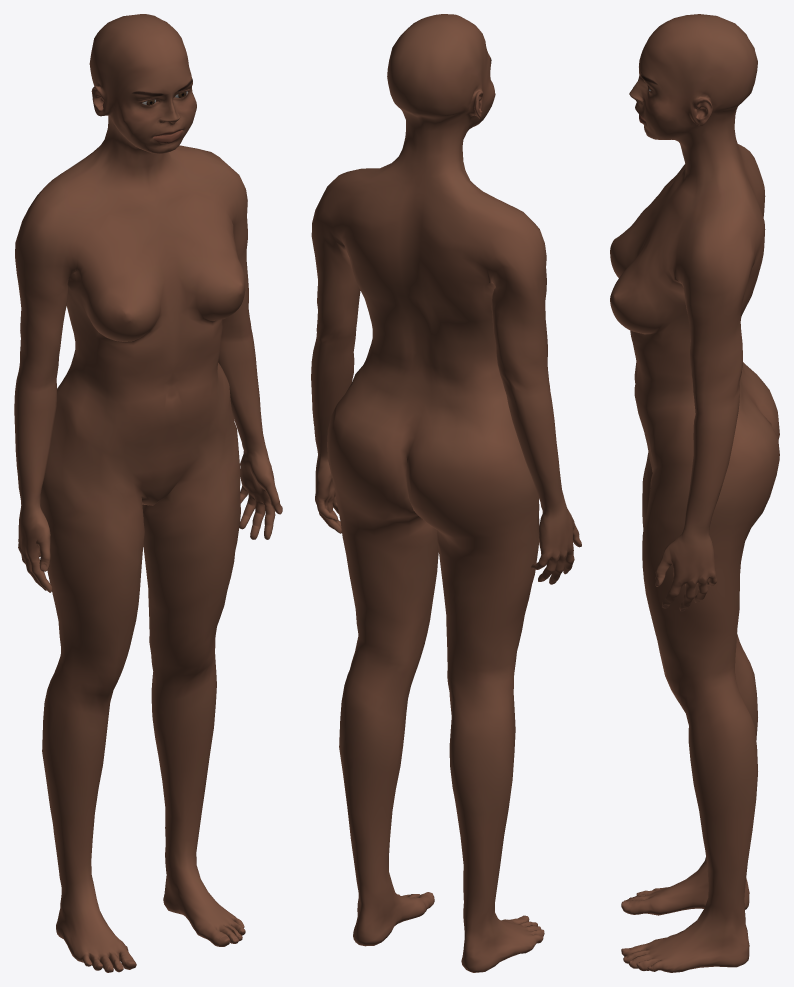
The model's file is woman_african_v3.glb.
3 views of the same model, side by side, from view 1: azimuth 30°, elevation 25°; view 2: azimuth 150°, elevation 25°; view 3: azimuth 270°, elevation 25° (orthographic).
Visible parts, largest first — view 1: basemesh_female_body; view 2: basemesh_female_body; view 3: basemesh_female_body.
Boxes of the visible parts, <box> form: basemesh_female_body: <box>14,14,282,972</box>; basemesh_female_body: <box>311,14,581,972</box>; basemesh_female_body: <box>610,14,779,972</box>.
Size of the model in its own units: 0.481 by 1.71 by 0.2861.
3 materials, 2 textured.
